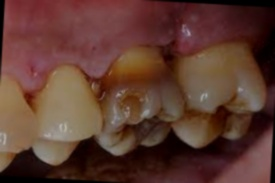Tooth Discoloration: (80, 47, 256, 154)
